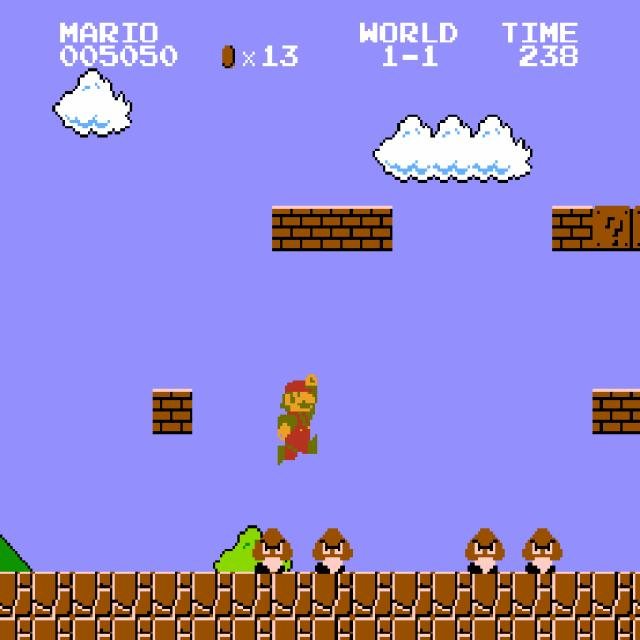big_mario: (275, 372, 318, 466)
brick_block: (152, 389, 193, 434), (272, 206, 313, 251), (312, 206, 353, 251), (352, 206, 393, 251), (552, 206, 593, 251), (592, 389, 633, 434), (633, 389, 640, 434)
goomba: (250, 526, 293, 574), (310, 526, 352, 574), (463, 526, 505, 574), (520, 526, 562, 574)
mystery_block: (592, 206, 633, 251), (633, 206, 640, 251)
undestructible_block: (32, 572, 73, 617), (72, 572, 113, 617), (112, 572, 153, 617), (152, 572, 193, 617), (192, 572, 233, 617), (232, 572, 273, 617), (272, 572, 313, 617), (312, 572, 353, 617), (352, 572, 393, 617), (392, 572, 433, 617), (432, 572, 473, 617), (472, 572, 513, 617), (512, 572, 553, 617), (552, 572, 593, 617), (592, 572, 633, 617), (0, 571, 32, 617), (32, 617, 73, 640), (72, 617, 113, 640), (112, 617, 153, 640), (152, 617, 193, 640), (192, 617, 233, 640), (232, 617, 273, 640), (272, 617, 313, 640), (312, 617, 353, 640), (352, 617, 393, 640), (392, 617, 433, 640), (432, 617, 473, 640), (472, 617, 513, 640), (512, 617, 553, 640), (552, 617, 593, 640), (592, 617, 633, 640), (0, 617, 32, 639), (633, 572, 640, 617), (633, 617, 640, 640)
